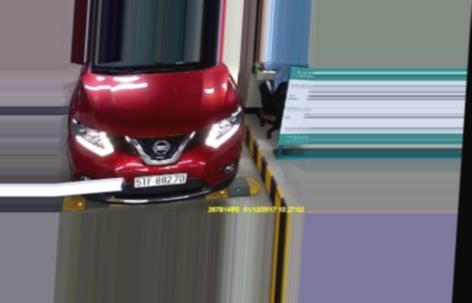License_Plate: (133, 171, 192, 187)
